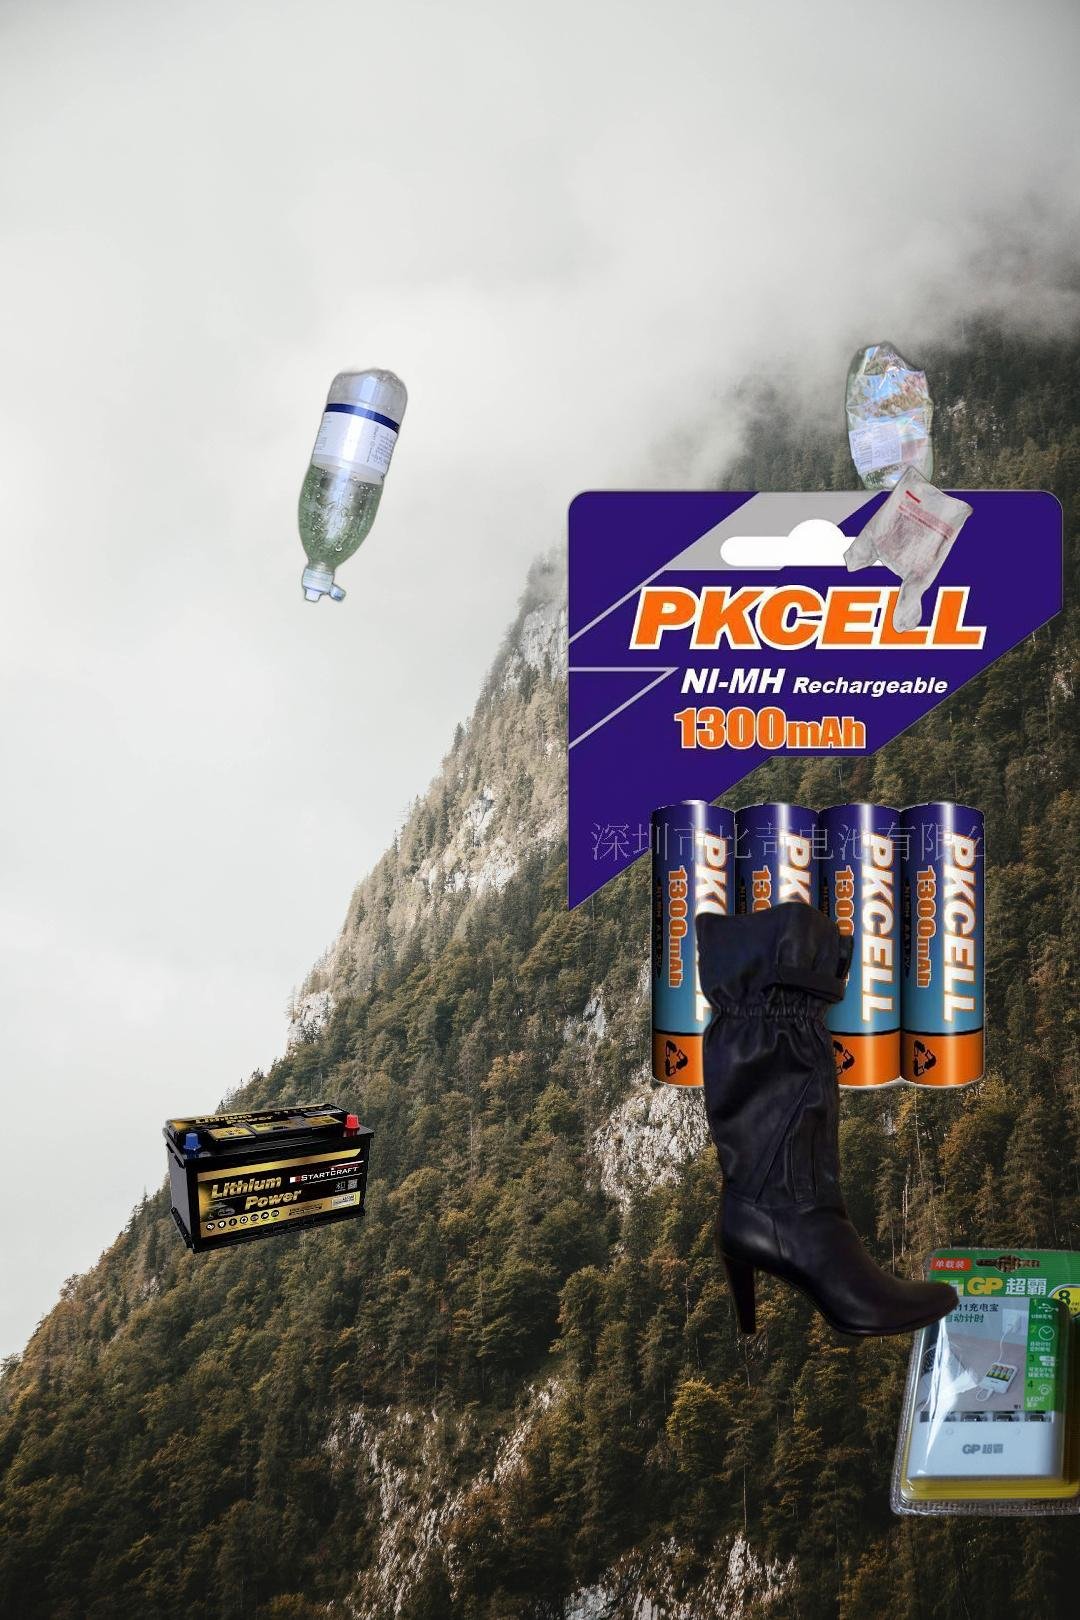battery: (563, 481, 1068, 1097), (884, 1243, 1080, 1519), (160, 1100, 377, 1257), (1079, 1121, 1080, 1310)
plastic-bag: (753, 374, 979, 636)
plastic-bottles: (294, 363, 411, 607), (840, 336, 941, 539)
shoes: (692, 896, 962, 1342)
